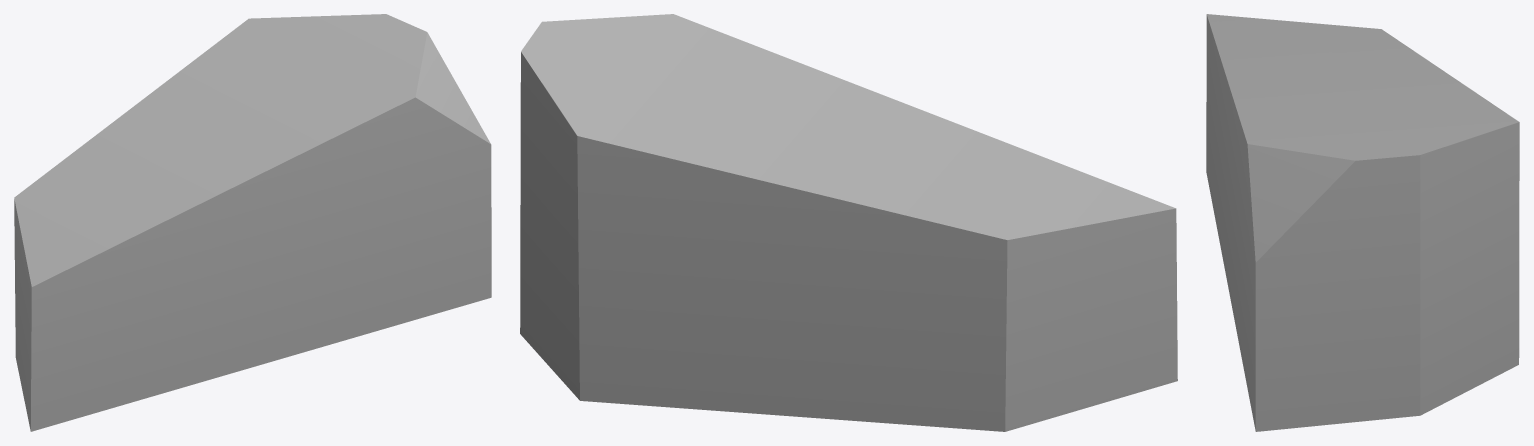
File: stone small 11.fbx
3 renders of one model, left to right at view 1: azimuth 30°, elevation 25°; view 2: azimuth 150°, elevation 25°; view 3: azimuth 270°, elevation 25°, orthographic. The views are drawn at different scales.
Visible parts, largest first — view 1: stone small 11; view 2: stone small 11; view 3: stone small 11.
Part boxes in pixels (x1,y1,x2,y2): stone small 11: [14, 14, 491, 431]; stone small 11: [520, 14, 1177, 431]; stone small 11: [1206, 14, 1519, 431].
Size of the model in its own units: 139 by 65.12 by 70.84.
